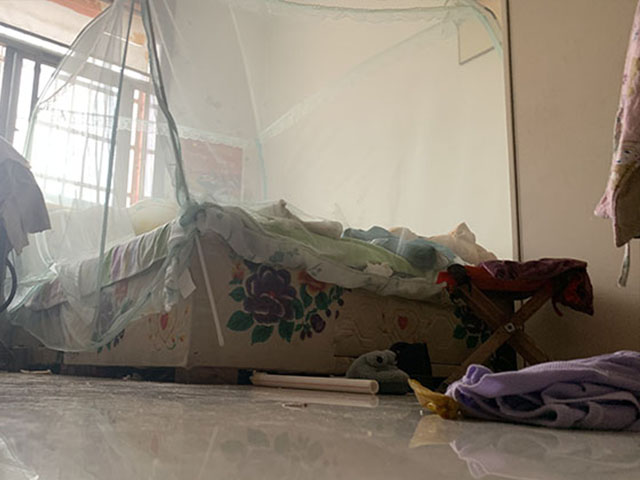bed: (13, 200, 512, 390)
cabinet: (442, 278, 553, 384)
slippers: (341, 349, 413, 393)
